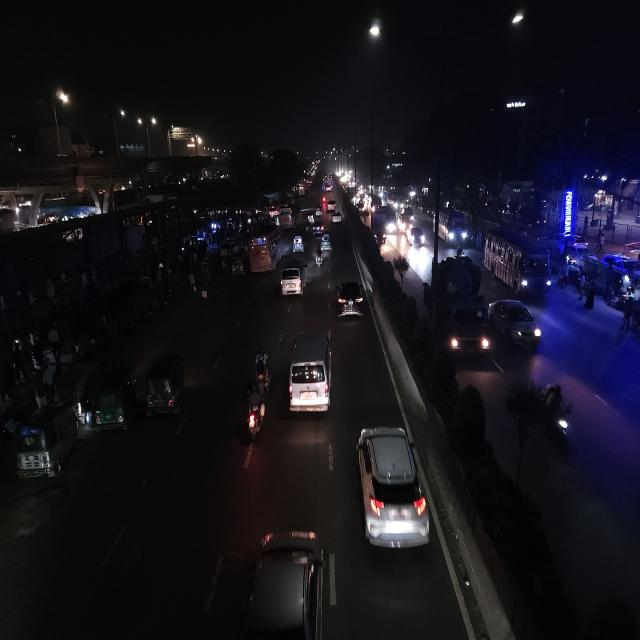bus: (483, 228, 555, 300), (246, 222, 282, 274), (437, 205, 471, 248), (389, 190, 409, 214)
car: (352, 422, 434, 565), (238, 526, 332, 640), (285, 326, 336, 424), (488, 295, 545, 356), (335, 277, 367, 320), (280, 255, 308, 300), (407, 225, 426, 249), (400, 209, 415, 229), (330, 209, 343, 225), (325, 197, 337, 213)
cng: (14, 395, 80, 490), (143, 348, 187, 423), (94, 367, 130, 436), (230, 252, 246, 280), (292, 231, 304, 254), (320, 231, 332, 250)
motorcycle: (538, 380, 576, 456), (242, 381, 268, 446), (252, 344, 271, 394), (315, 246, 323, 269)
pedestrian: (618, 292, 640, 333), (581, 276, 599, 311)
pickup_van: (430, 253, 488, 364)
truck: (371, 212, 388, 242)
